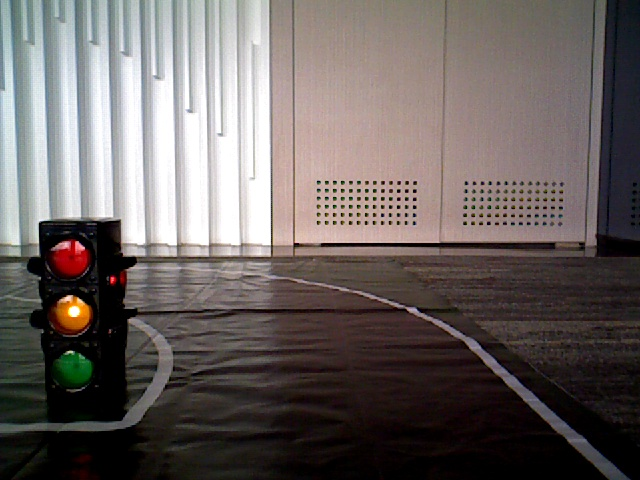yellow: (43, 225, 108, 391)
